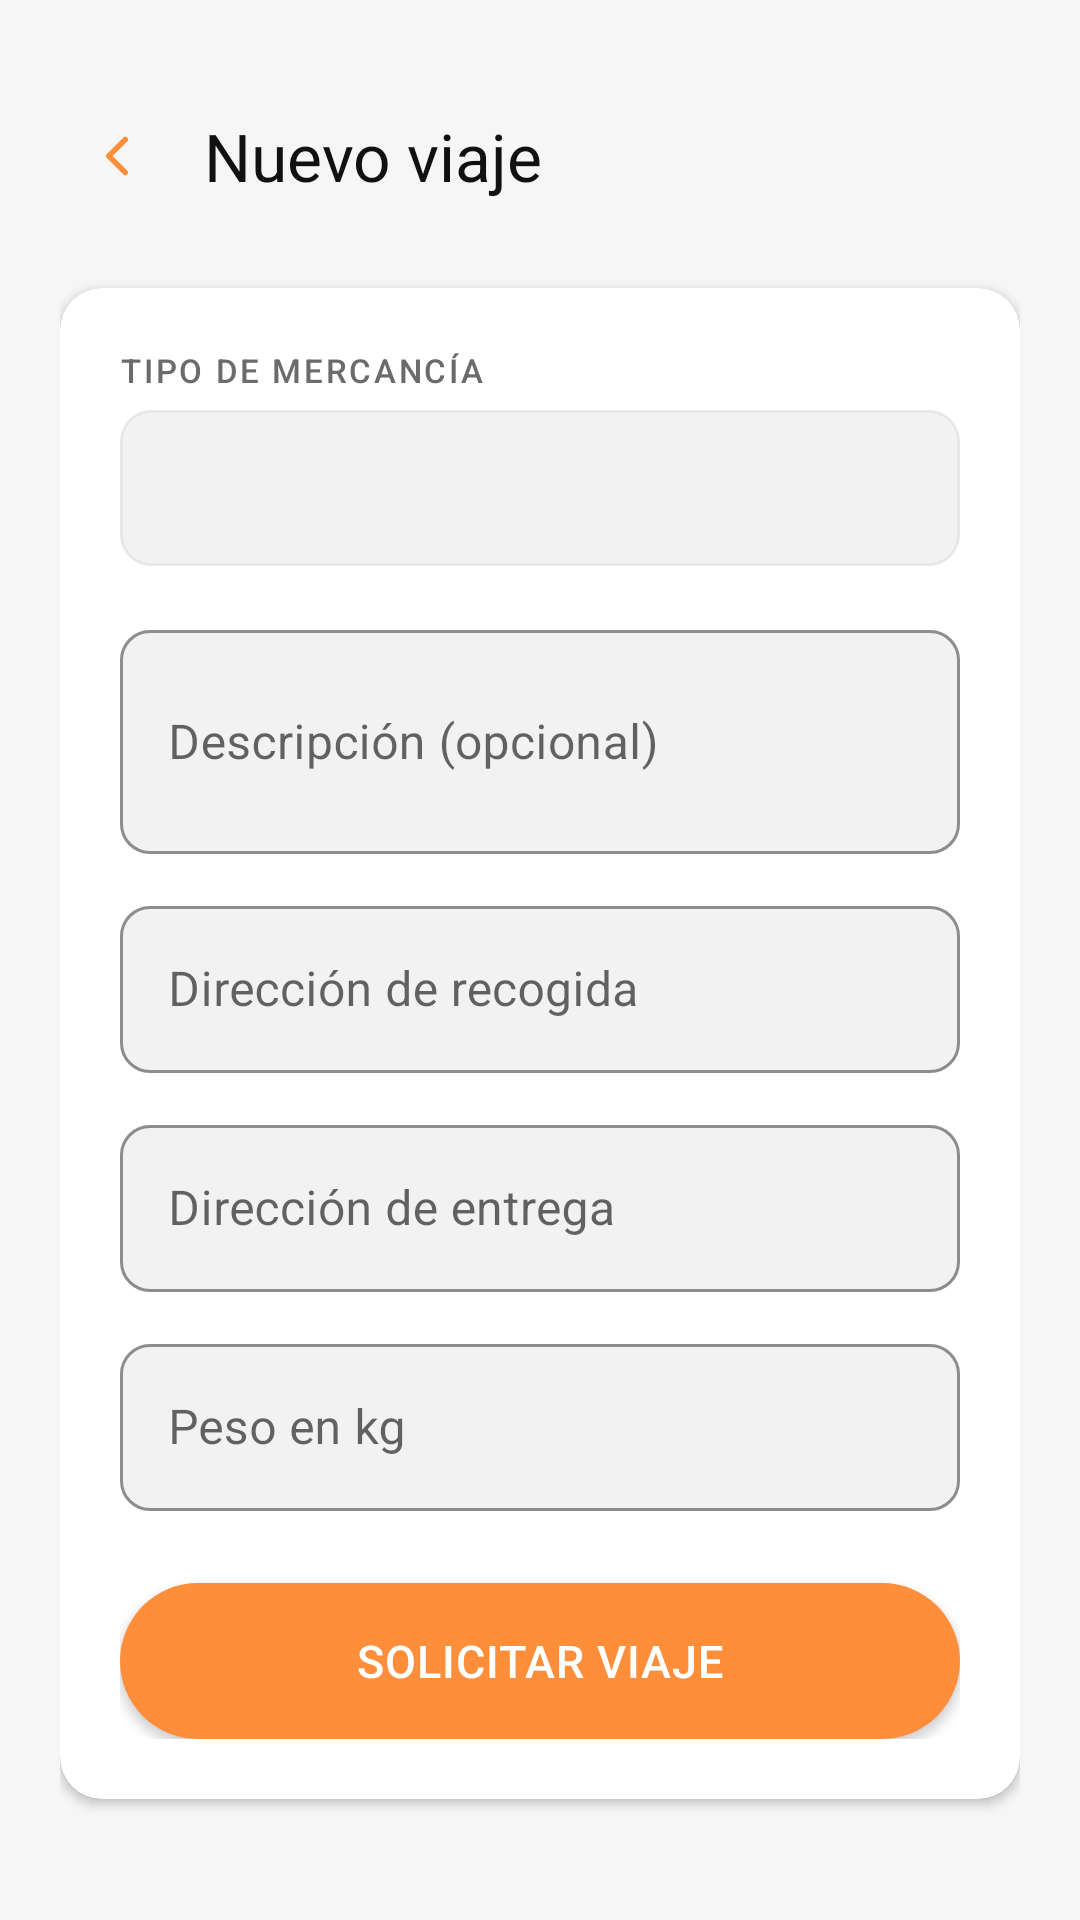

Point at icon controls on the screen. Image size 1080px×1920px, points as (x,y).
arrow back: (117,156)
